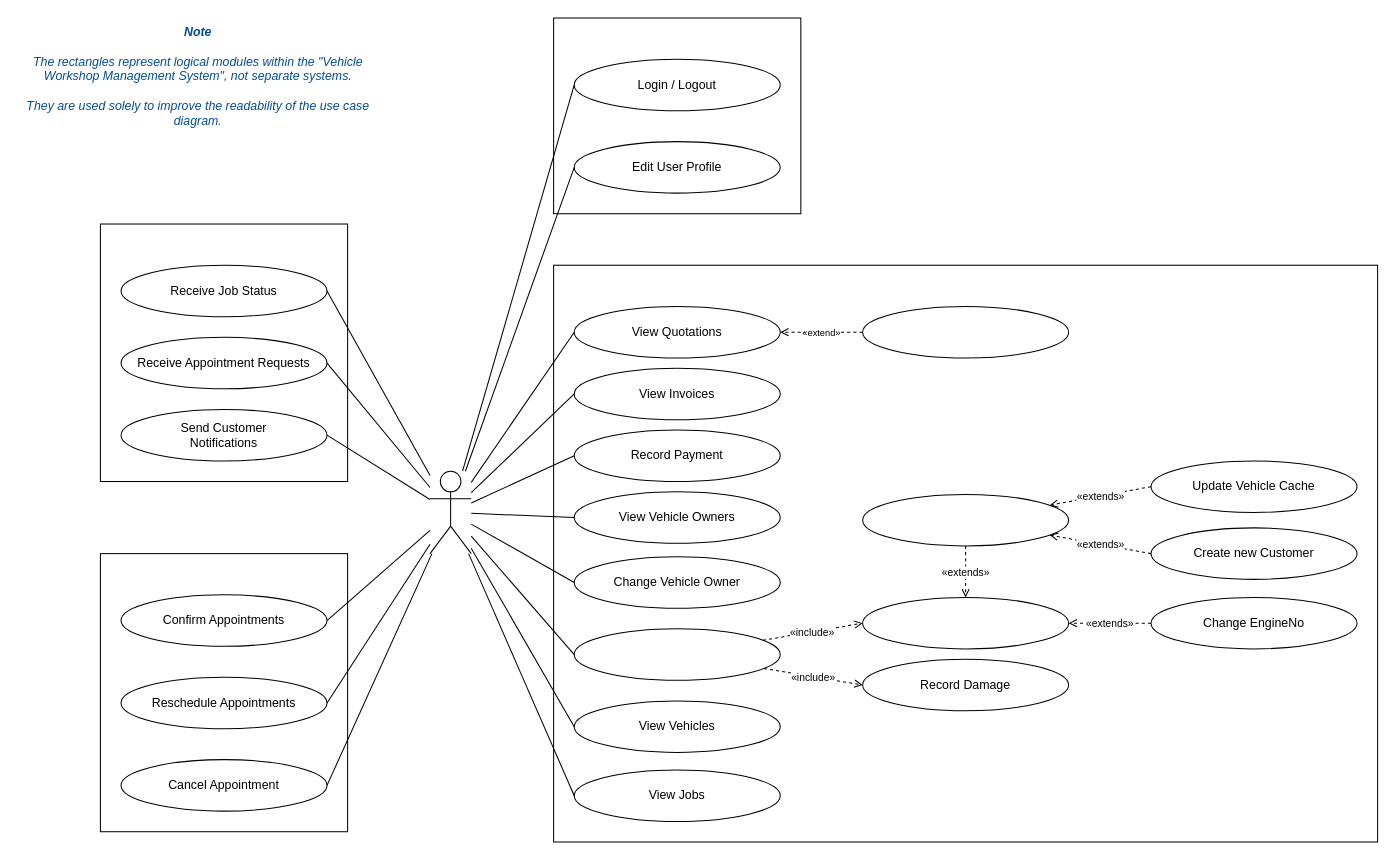
Some shapes in this 1396 by 860 pixel diagram are drawn without their labels. Here are the shapes that lost their labels. From the top down, the box of each, then its label:
(553, 17, 801, 214): Identity Module
(862, 305, 1069, 358): Generate Invoice
(99, 223, 348, 482): Notification Module
(429, 470, 471, 554): Front Desk Staff
(862, 493, 1069, 546): Create Vehicle
(553, 264, 1378, 842): Job Module
(862, 596, 1069, 649): Create Job
(573, 628, 780, 680): Checkin arriving vehicle
(99, 553, 348, 832): Appointment Module
